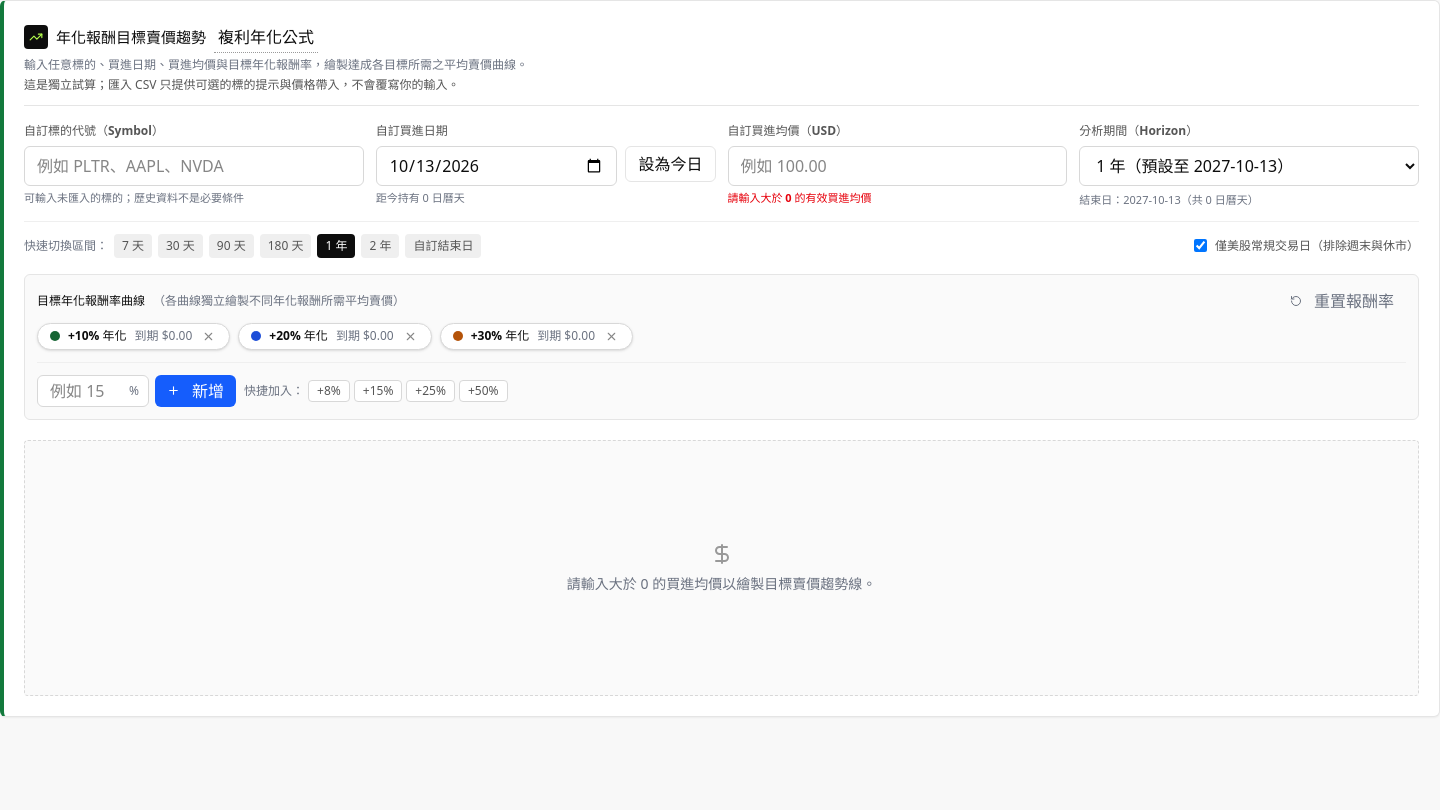
Test: AnnualizedReturnPanel › handles typing an unimported or arbitrary symbol gracefully
Step 1. Type "CUSTOM-TICKER" into the field labelled "自訂標的代號（Symbol）" → (194,166), box [24, 146, 364, 186]
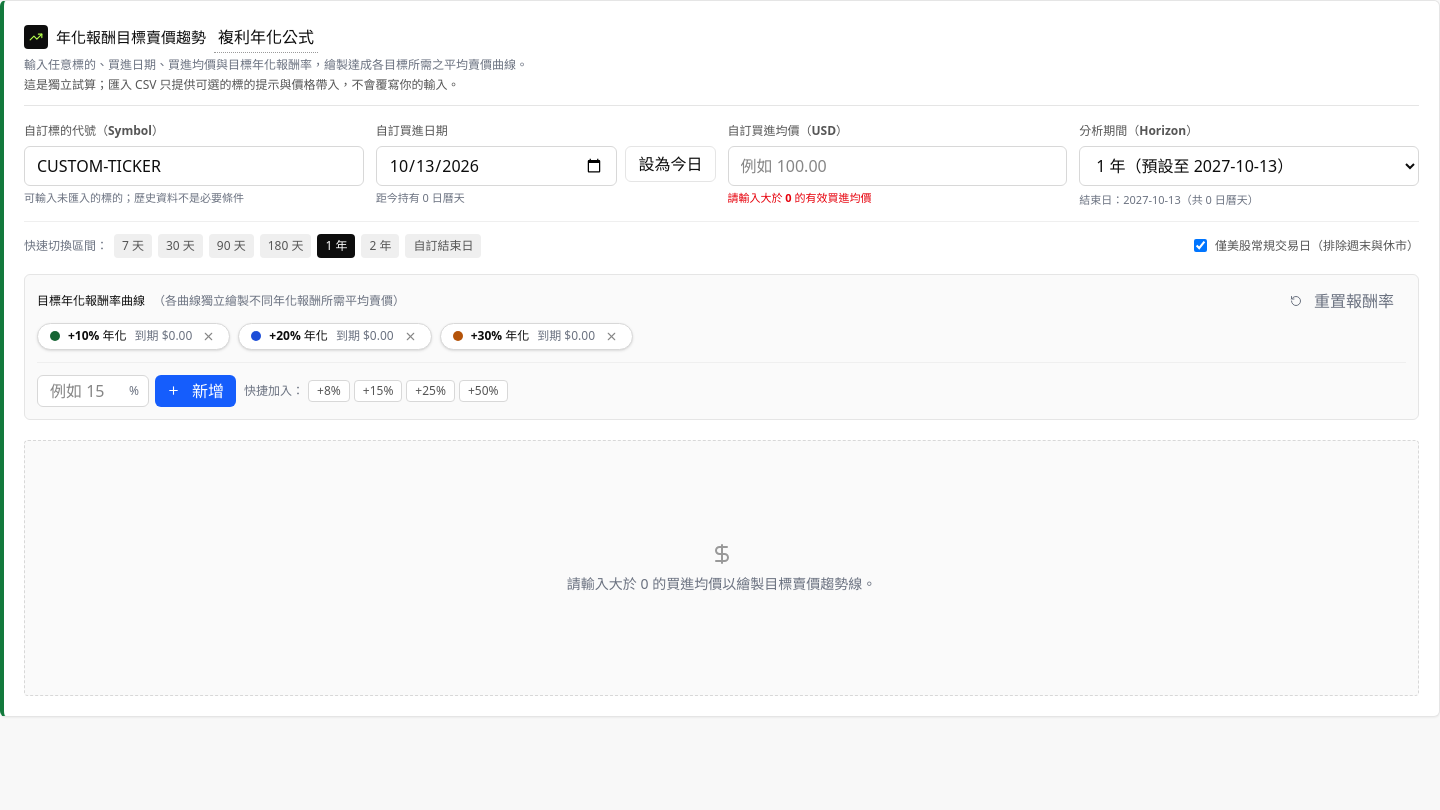
Step 2. Type "100" into the number field labelled "自訂買進均價（USD）" → (897,166), box [728, 146, 1067, 186]
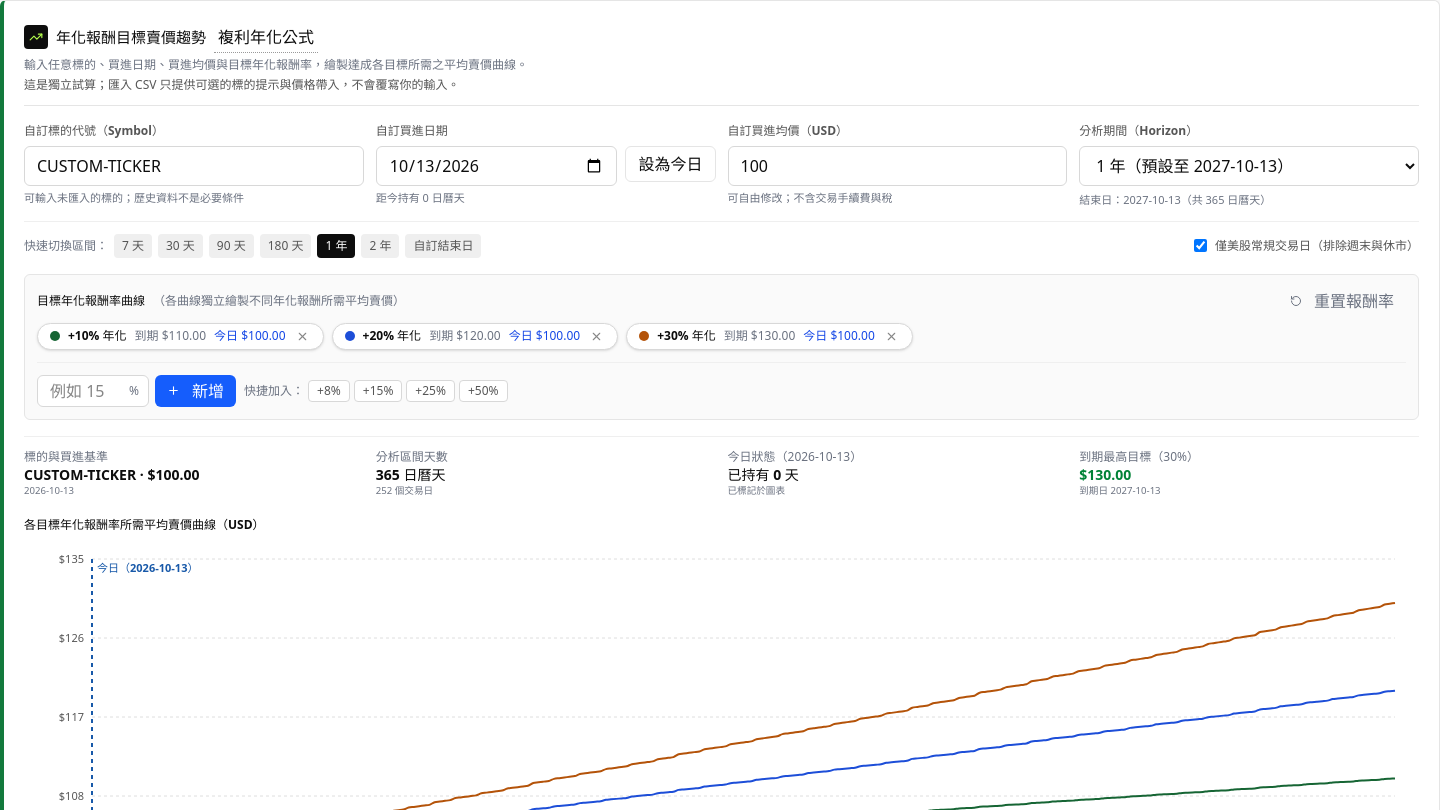
Expected: the text "可輸入未匯入的標的；歷史資料不是必要條件" is shown, [24, 190, 244, 206]
Result: the text "CUSTOM-TICKER · $100.00" is shown at [24, 464, 200, 484]
